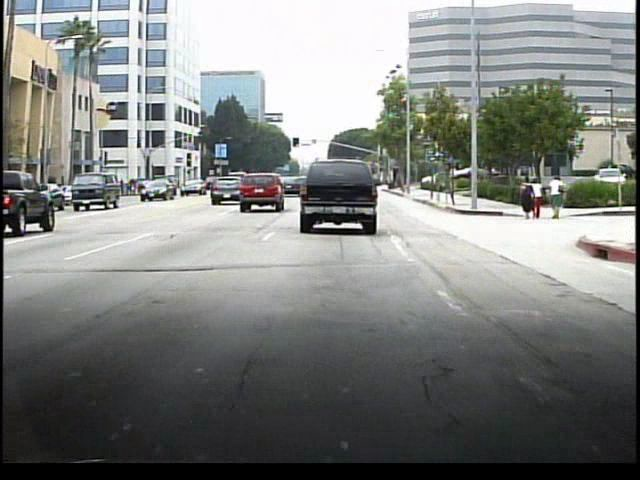person: (546, 175, 565, 221), (517, 175, 532, 222), (531, 180, 544, 223)
